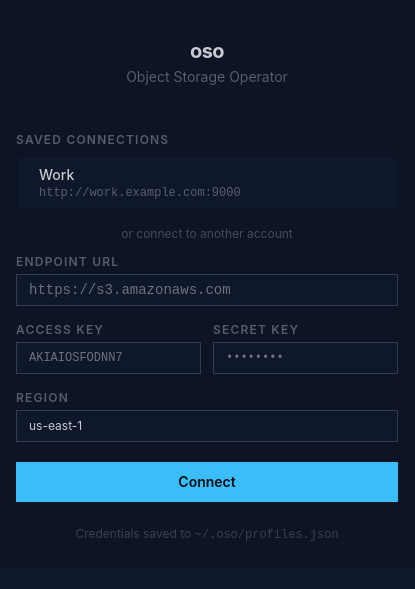
Scenario: SetupScreen › saved connections › show why a saved connection failed
Click the button "Work http://work.example.com:9000". click: (207,182)
box: left=17, top=156, right=397, bottom=208
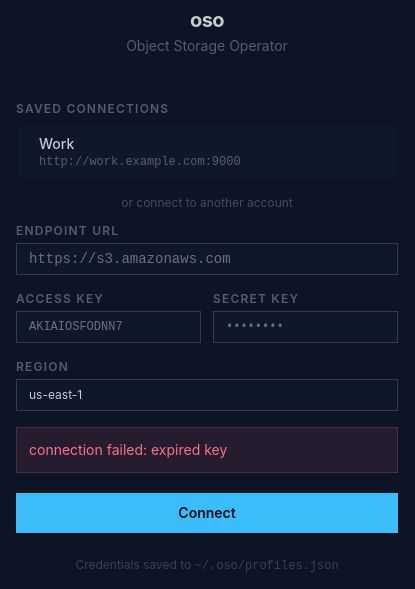
Expected: the button "Work http://work.example.com:9000" is enabled, left=17, top=126, right=397, bottom=178
Expected: the text "connection failed: expired key" is shown, left=29, top=440, right=227, bottom=460
